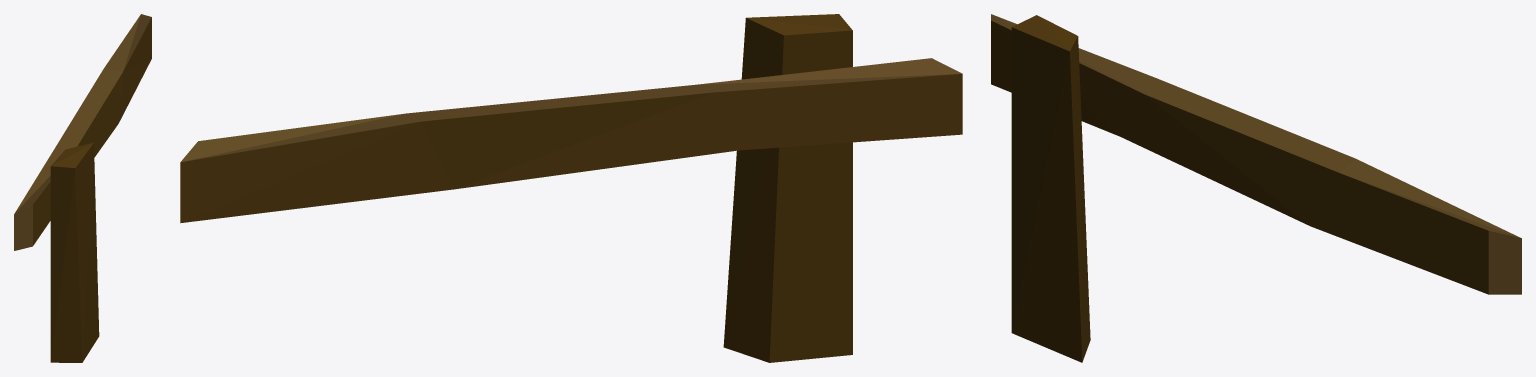
The model's file is model_loc_814_5.obj.
The picture shows the model from 3 angles, left to right: view 1: azimuth 30°, elevation 25°; view 2: azimuth 150°, elevation 25°; view 3: azimuth 270°, elevation 25°; orthographic projection. The views are drawn at different scales.
Visible parts, largest first — view 1: 999; view 2: 999; view 3: 999.
Boxes of the visible parts, bbox=[...] form: 999: bbox=[14, 14, 151, 362]; 999: bbox=[180, 14, 962, 362]; 999: bbox=[991, 14, 1521, 362].
Size of the model in its own units: 128 by 81 by 128.
